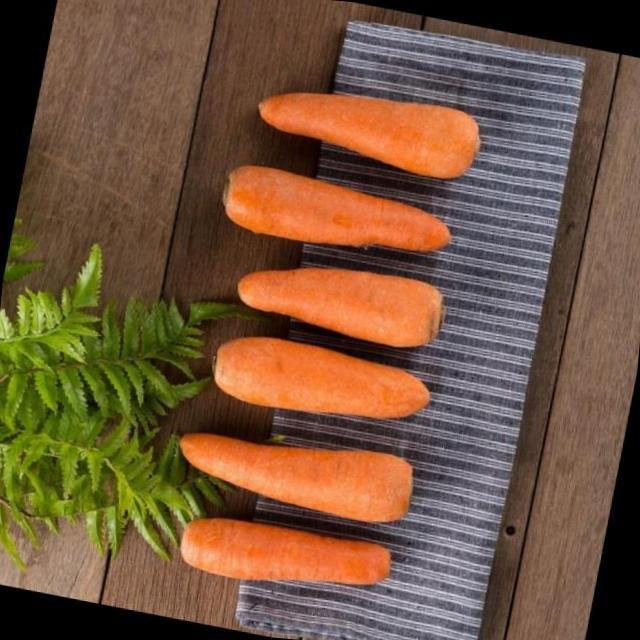carrot: (180, 434, 412, 522), (224, 166, 450, 252), (259, 92, 480, 178), (214, 338, 430, 418), (239, 268, 442, 348), (182, 519, 391, 584)
